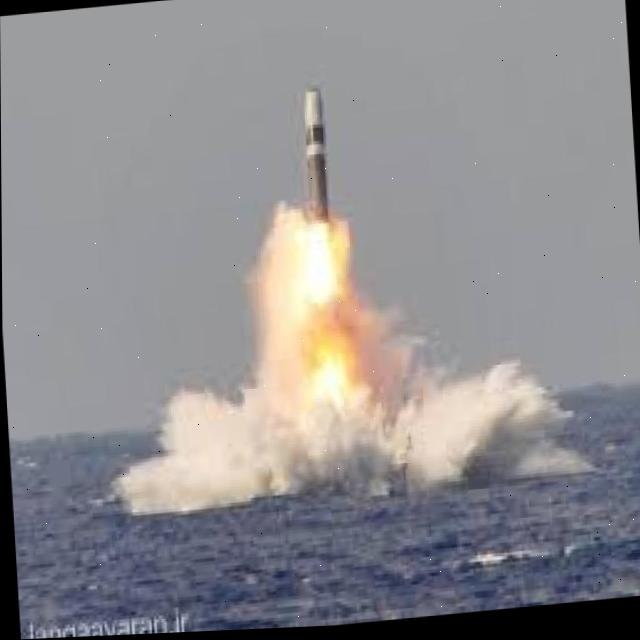missile: (298, 86, 334, 230)
